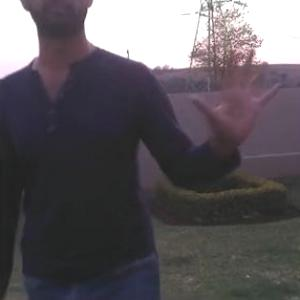follow_hand: (191, 41, 283, 145)
